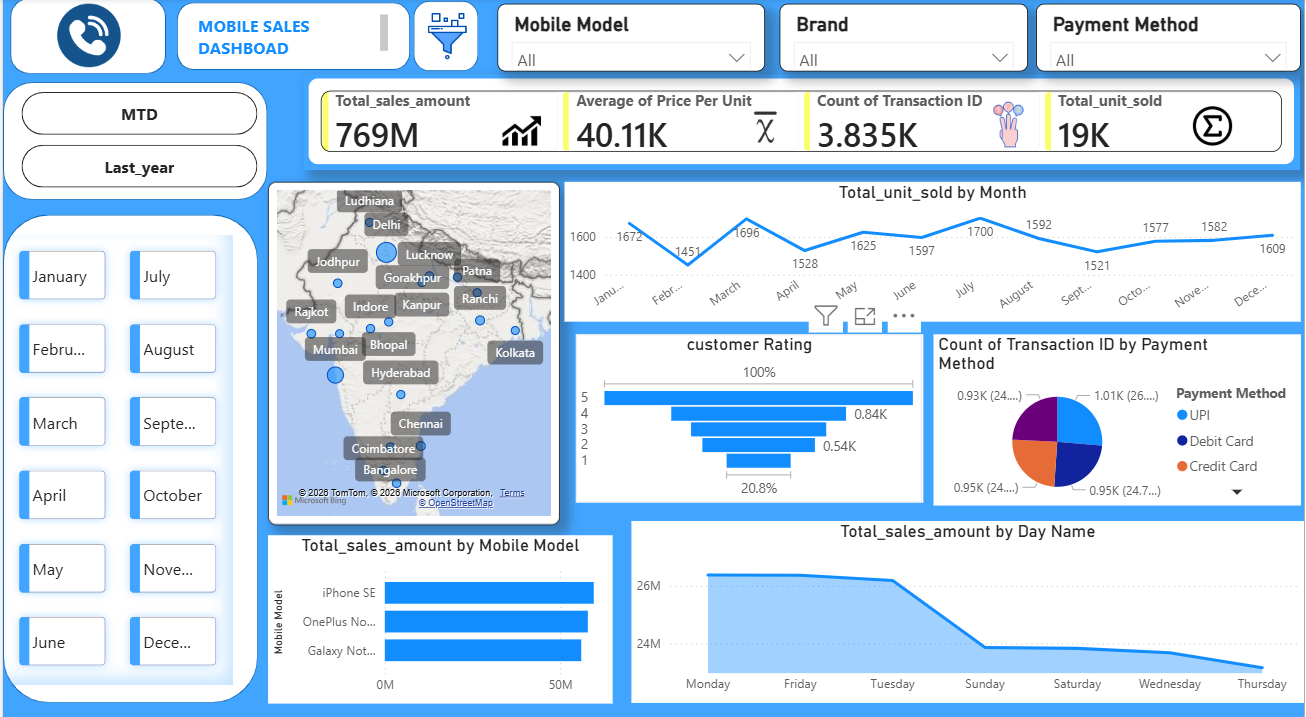

Layout of this report page (visuals, bound fields, positions):
{"tool":"powerbi","page":{"name":"DASHBOAD","canvas":[1280,720],"ordinal":0},"visuals":[{"type":"cardVisual","fields":{"Data":["Mobile_data.Total_sales_amount","Avg(Mobile_data.Price Per Unit)","CountNonNull(Mobile_data.Transaction ID)","Mobile_data.Total_unit_sold"]},"box":[296.2,74.7,980.7,94.7],"z":0},{"type":"shape","box":[0,213.5,250.8,480.3],"z":1000},{"type":"advancedSlicerVisual","fields":{"Values":["custome_calender.Date.Variation.Date Hierarchy.Month"]},"box":[0,232.2,226.8,443],"z":2000},{"type":"shape","box":[6.7,0,153.4,74.7],"z":3000},{"type":"shape","box":[0,82.7,260.2,116.1],"z":4000},{"type":"image","box":[37.4,5.3,93.4,62.7],"z":5000},{"type":"slicer","fields":{"Values":["Mobile_data.Mobile Model"]},"box":[485.7,5.3,262.8,66.7],"z":6000},{"type":"slicer","fields":{"Values":["Mobile_data.Brand"]},"box":[763.2,5.3,244.2,66.7],"z":7000},{"type":"slicer","fields":{"Values":["Mobile_data.Payment Method"]},"box":[1016.7,5.3,260.2,66.7],"z":8000},{"type":"shape","box":[404.3,2.7,64,69.4],"z":9000},{"type":"image","box":[413.6,1.3,46.7,72.1],"z":10000},{"type":"image","box":[468.3,112.1,84.1,37.4],"z":11000},{"type":"image","box":[707.2,104.1,84.1,44],"z":12000},{"type":"image","box":[962,101.4,54.7,46.7],"z":13000},{"type":"image","box":[1147.5,106.7,84.1,38.7],"z":14000},{"type":"shape","box":[170.8,4,229.5,66.7],"z":15000},{"type":"textbox","box":[186.8,10.7,197.5,49.4],"z":16000},{"type":"map","fields":{"Category":["Mobile_data.City"],"Size":["Mobile_data.Total_sales_amount"]},"box":[260.2,180.1,286.9,337.6],"z":17000},{"type":"lineChart","fields":{"Y":["Mobile_data.Total_unit_sold"],"Category":["custome_calender.Date.Variation.Date Hierarchy.Month"]},"box":[552.4,180.1,724.5,137.4],"z":18000},{"type":"funnel","title":"customer Rating","fields":{"Category":["Mobile_data.Customer Ratings"],"Y":["CountNonNull(Mobile_data.Customer Ratings)"]},"box":[563.1,330.9,341.6,165.4],"z":19000},{"type":"pieChart","fields":{"Category":["Mobile_data.Payment Method"],"Y":["CountNonNull(Mobile_data.Transaction ID)"]},"box":[915.3,330.9,361.6,168.1],"z":20000},{"type":"clusteredBarChart","fields":{"Y":["Mobile_data.Total_sales_amount"],"Category":["Mobile_data.Mobile Model"]},"box":[260.2,528.4,338.9,165.4],"z":21000},{"type":"areaChart","fields":{"Y":["Mobile_data.Total_sales_amount"],"Category":["custome_calender.Day Name"]},"box":[617.8,515,661.8,178.8],"z":22000},{"type":"pageNavigator","box":[18.6,92.9,232.9,95.7],"z":22001}]}

Visuals, with their boxes in screenshot pixels (x1, y1, x2, y2), scaled from the page's 1280x720 canvas onto the 1306x717 screenshot:
cardVisual - Mobile_data.Total_sales_amount x Avg(Mobile_data.Price Per Unit): bbox=(302, 74, 1303, 169)
shape: bbox=(0, 213, 256, 691)
advancedSlicerVisual - custome_calender.Date.Variation.Date Hierarchy.Month: bbox=(0, 231, 231, 672)
shape: bbox=(7, 0, 163, 74)
shape: bbox=(0, 82, 265, 198)
image: bbox=(38, 5, 133, 68)
slicer - Mobile_data.Mobile Model: bbox=(496, 5, 764, 72)
slicer - Mobile_data.Brand: bbox=(779, 5, 1028, 72)
slicer - Mobile_data.Payment Method: bbox=(1037, 5, 1303, 72)
shape: bbox=(413, 3, 478, 72)
image: bbox=(422, 1, 470, 73)
image: bbox=(478, 112, 564, 149)
image: bbox=(722, 104, 807, 147)
image: bbox=(982, 101, 1037, 147)
image: bbox=(1171, 106, 1257, 145)
shape: bbox=(174, 4, 408, 70)
textbox: bbox=(191, 11, 392, 60)
map - Mobile_data.City x Mobile_data.Total_sales_amount: bbox=(265, 179, 558, 516)
lineChart - Mobile_data.Total_unit_sold x custome_calender.Date.Variation.Date Hierarchy.Month: bbox=(564, 179, 1303, 316)
"customer Rating" funnel: bbox=(575, 330, 923, 494)
pieChart - Mobile_data.Payment Method x CountNonNull(Mobile_data.Transaction ID): bbox=(934, 330, 1303, 497)
clusteredBarChart - Mobile_data.Total_sales_amount x Mobile_data.Mobile Model: bbox=(265, 526, 611, 691)
areaChart - Mobile_data.Total_sales_amount x custome_calender.Day Name: bbox=(630, 513, 1305, 691)
pageNavigator: bbox=(19, 93, 257, 188)
